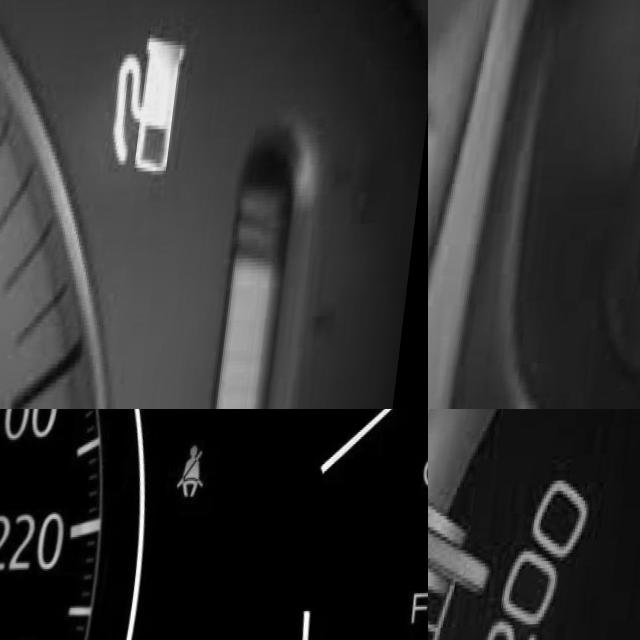Seat Belt: (175, 446, 215, 501)
